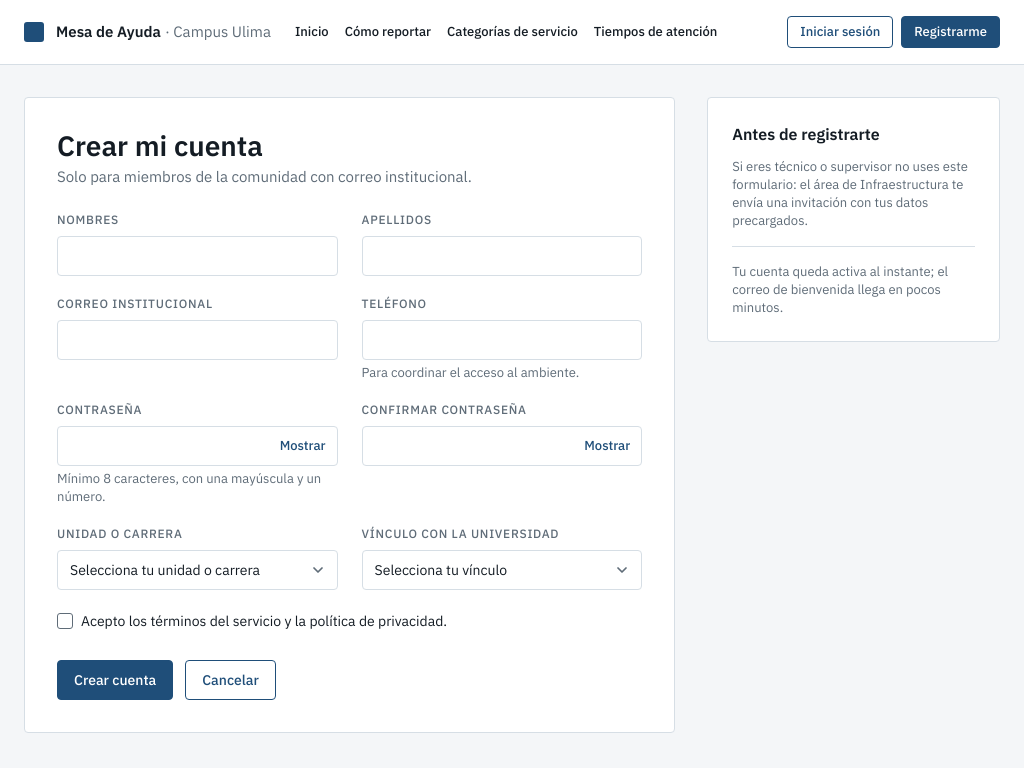
RegisterPage › al enviar vacío muestra el error junto a cada campo y enfoca el primero
Expected: the dropdown labelled "Unidad o carrera" is enabled, x1=57 y1=550 x2=338 y2=590
Click the button "Crear cuenta": (115, 680) x1=57 y1=660 x2=173 y2=700
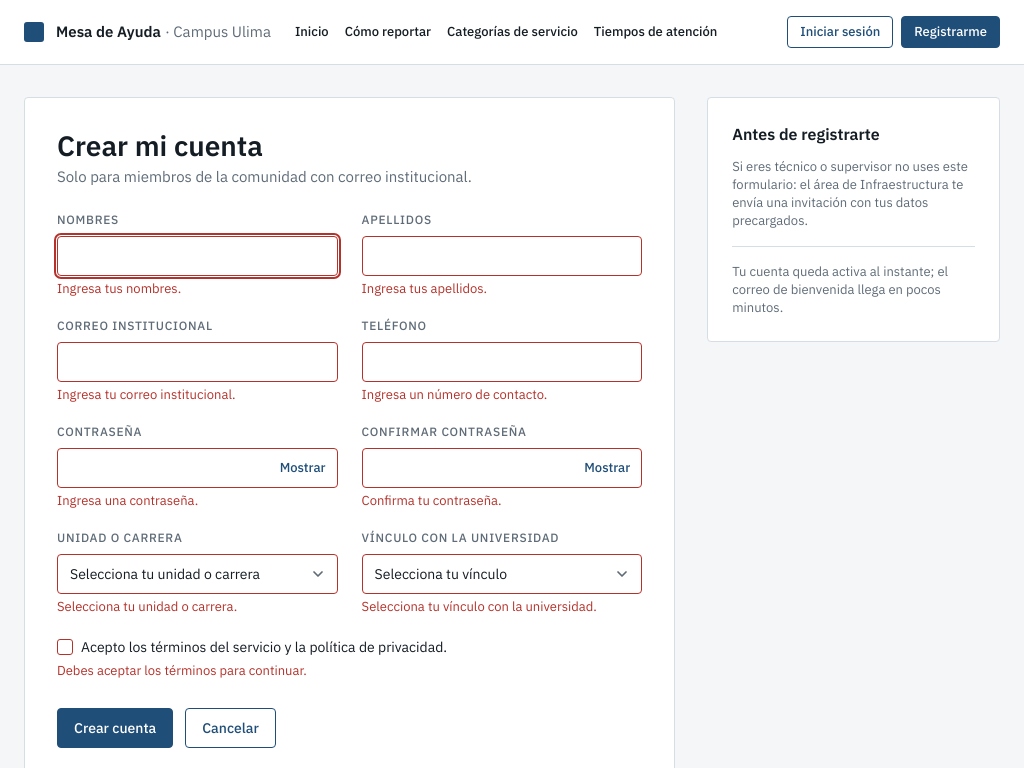
Expected: the element labelled "Nombres" shows "Ingresa tus nombres.", x1=57 y1=280 x2=181 y2=297
Expected: the element labelled "Apellidos" shows "Ingresa tus apellidos.", x1=362 y1=280 x2=487 y2=297
Expected: the element labelled "Correo institucional" shows "Ingresa tu correo institucional.", x1=57 y1=386 x2=236 y2=403
